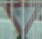Give way: (4, 1, 39, 38)
